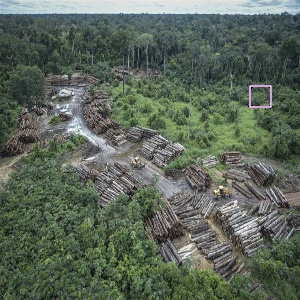square: (248, 84, 273, 109)
